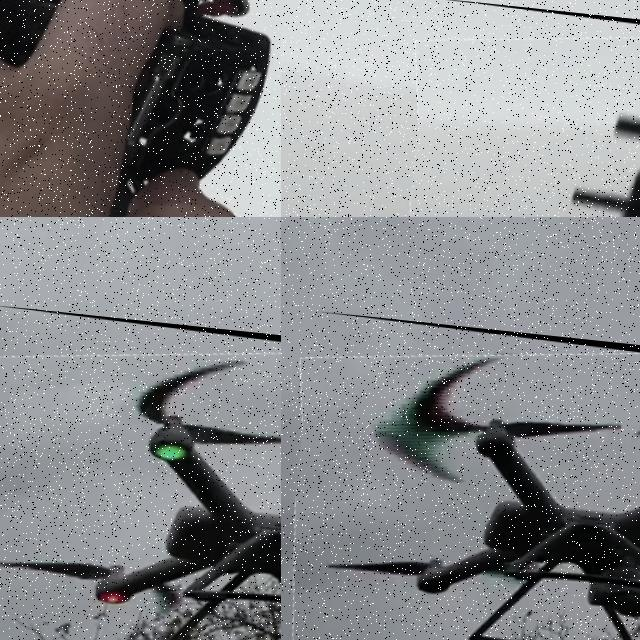drone: (281, 310, 640, 640), (0, 304, 281, 640), (0, 0, 281, 217), (393, 0, 640, 217)
